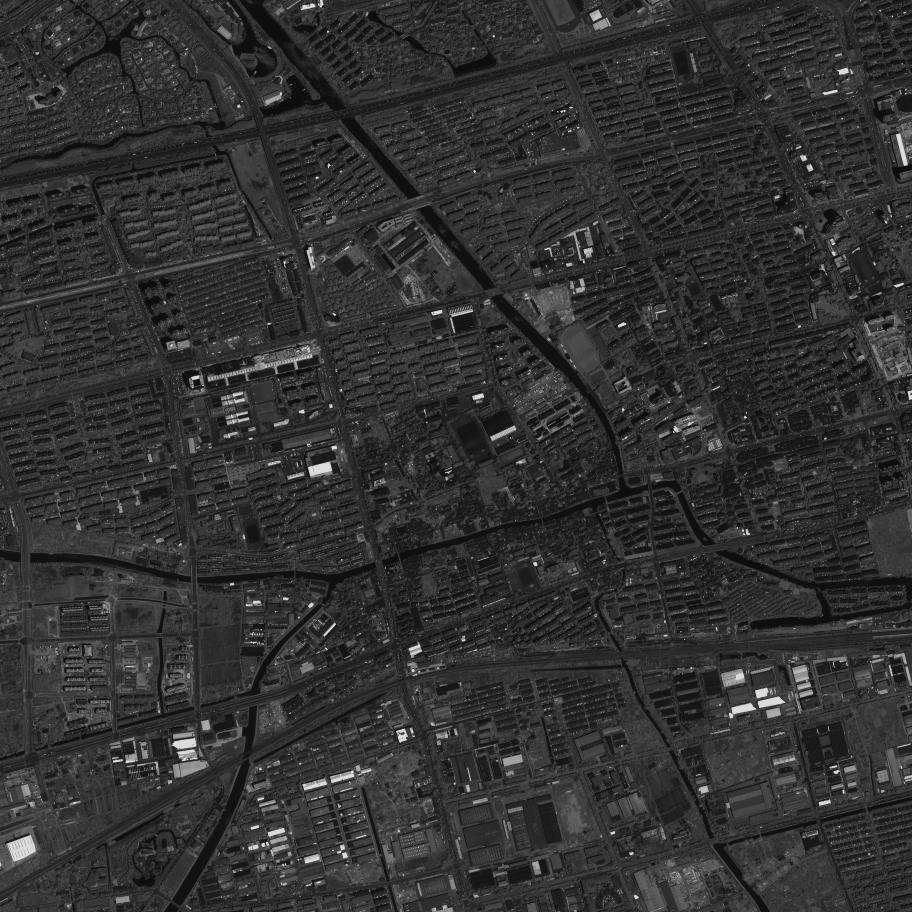storage-tank: (34, 53, 40, 56), (21, 60, 26, 62)
